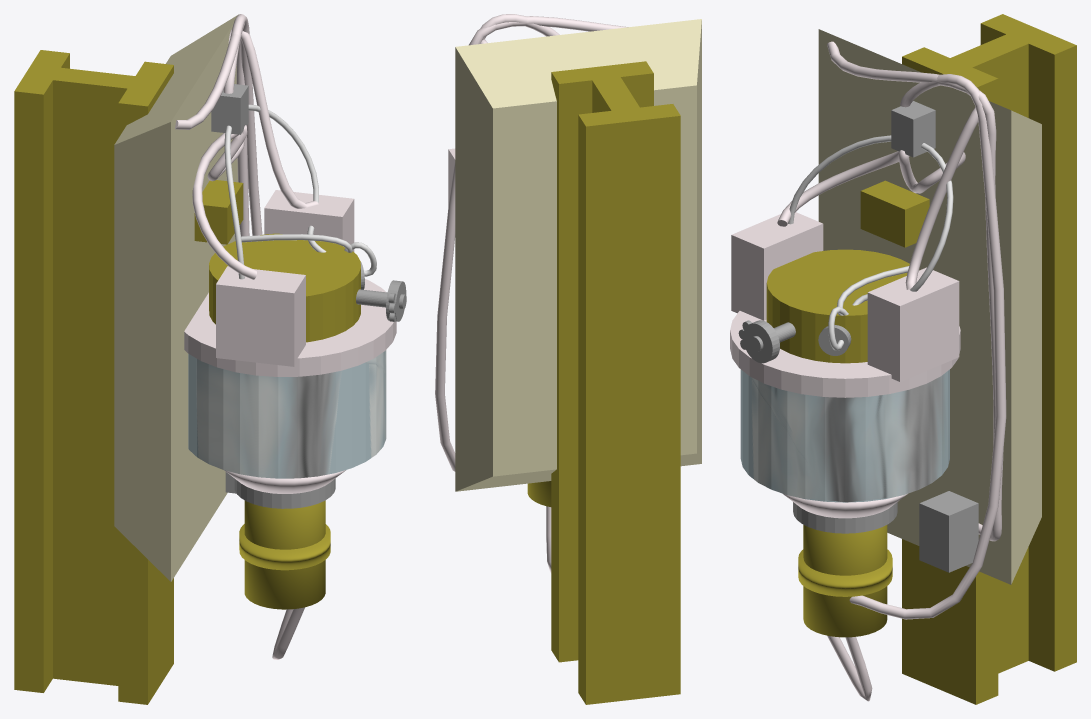
Rendered from gammaRaySpectrometer.glb.
3 views of the same model, side by side, from view 1: azimuth 30°, elevation 25°; view 2: azimuth 150°, elevation 25°; view 3: azimuth 270°, elevation 25° (orthographic). The views are drawn at different scales.
Parts seen in each view (by area): view 1: Cube, Cube.003, Cube.002, Cylinder.004, Cube.001, BézierCurve, Cube.005, Cylinder.003, Cylinder.002, Cylinder.001, Cube.004, BézierCurve.001 (+5 smaller); view 2: Cube, Cube.002, Cube.001, BézierCurve, Cube.003, Cylinder.001; view 3: Cube, Cube.002, Cylinder.004, BézierCurve, Cube.001, Cylinder.003, Cube.004, Cylinder.001, Cube.003, Cylinder.002, Cube.005, Cube.007 (+8 smaller).
Boxes of the visible parts, x1,y1,x2,y2 form: Cube: (114,14,238,581); Cube.003: (45,67,150,685); Cube.002: (14,50,69,692); Cylinder.004: (188,350,386,478); Cube.001: (118,61,173,704); BézierCurve: (175,14,318,659); Cube.005: (216,266,305,366); Cylinder.003: (209,233,360,342); Cylinder.002: (184,279,396,376); Cylinder.001: (244,500,325,609); Cube.004: (264,190,354,251); BézierCurve.001: (224,104,376,279); Cube: (455,19,701,491); Cube.002: (578,104,680,704); Cube.001: (551,61,653,662); BézierCurve: (435,14,628,573); Cube.003: (588,71,641,113); Cylinder.001: (527,481,551,506); Cube: (818,29,1041,584); Cube.002: (980,14,1076,671); Cylinder.004: (740,369,949,502); BézierCurve: (777,41,1006,701); Cube.001: (902,47,998,704); Cylinder.003: (766,249,909,363); Cube.004: (867,267,959,381); Cylinder.001: (803,525,887,637); Cube.003: (940,34,1034,673); Cylinder.002: (730,311,960,397); Cube.005: (731,212,823,320); Cube.007: (919,491,978,572).
Bounding box in the file's own units: 3.31 × 6.93 × 3.31.
Materials: 5 (1 with a texture image).
